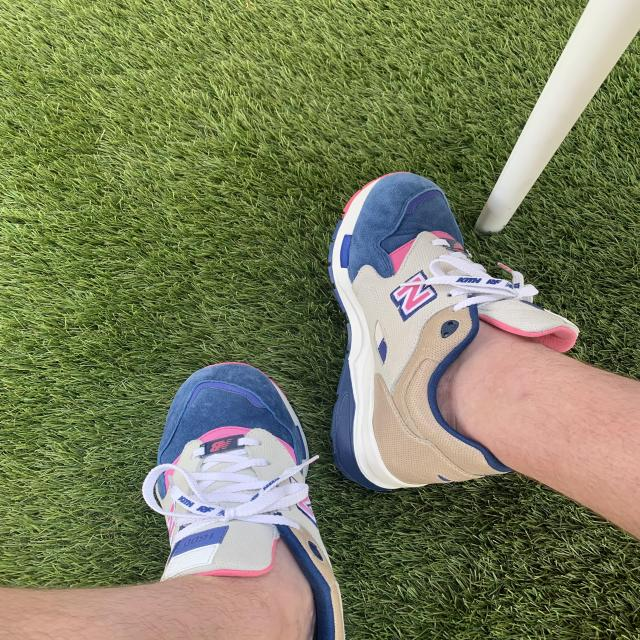shoes: (325, 169, 582, 499), (148, 360, 348, 640)
